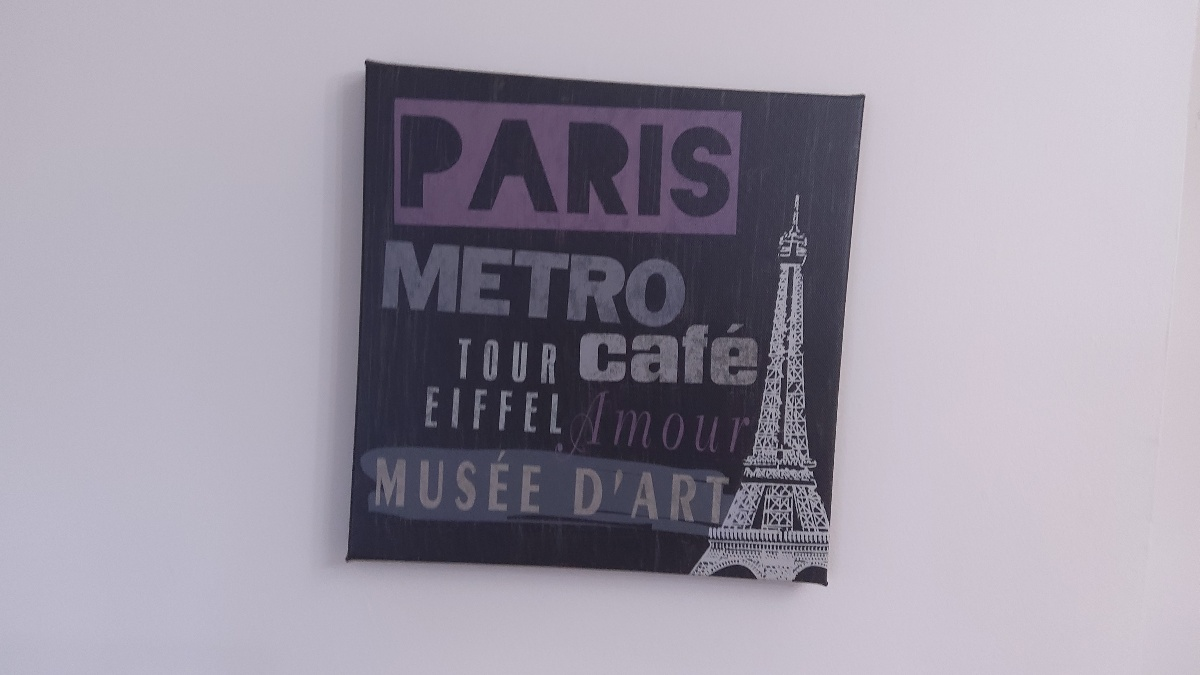poster: (345, 56, 871, 598)
